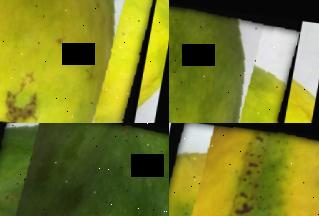PartiallyRipe: (0, 0, 161, 123), (169, 0, 299, 123)
Ripe: (169, 123, 319, 216)
Unripe: (0, 123, 169, 216)
